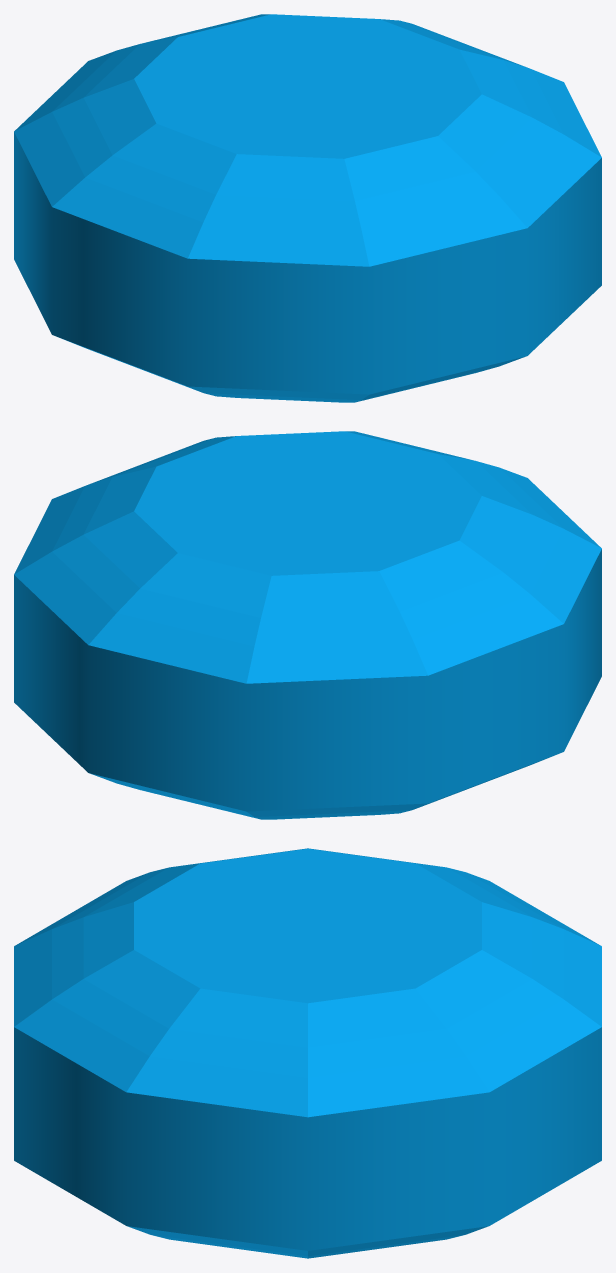
Rendered from ballstone.fbx.
3 views of the same model, one above another, from view 1: azimuth 30°, elevation 25°; view 2: azimuth 150°, elevation 25°; view 3: azimuth 270°, elevation 25° (orthographic). The views are drawn at different scales.
Parts seen in each view (by area): view 1: Cylinder001; view 2: Cylinder001; view 3: Cylinder001.
Boxes of the visible parts, x1,y1,x2,y2 form: Cylinder001: (14, 14, 601, 402); Cylinder001: (14, 431, 601, 819); Cylinder001: (14, 848, 601, 1258).
Size of the model in its own units: 40 by 38.04 by 18.2.
